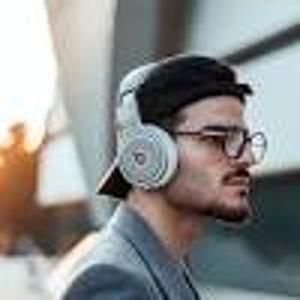Headphones: (110, 55, 251, 190)
